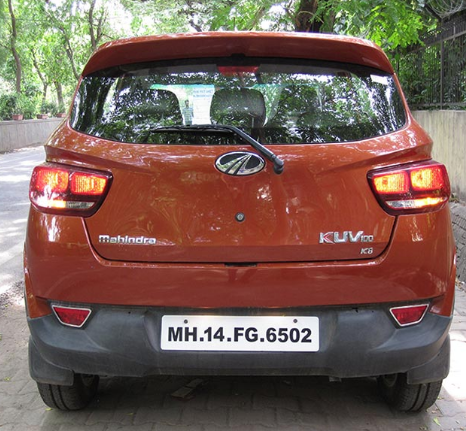car: (19, 26, 458, 420)
